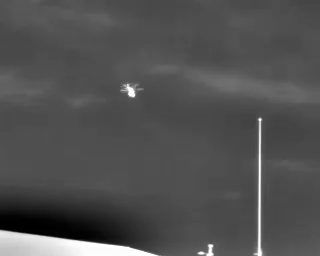HELICOPTER: (115, 76, 150, 104)
